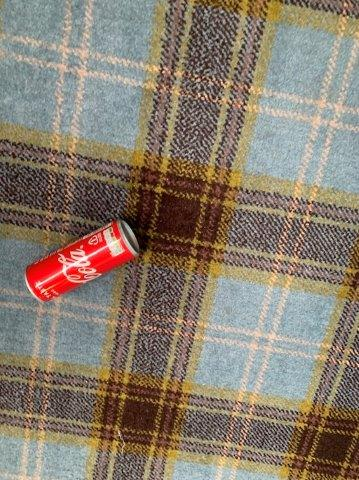kaleng: (27, 221, 138, 300)
